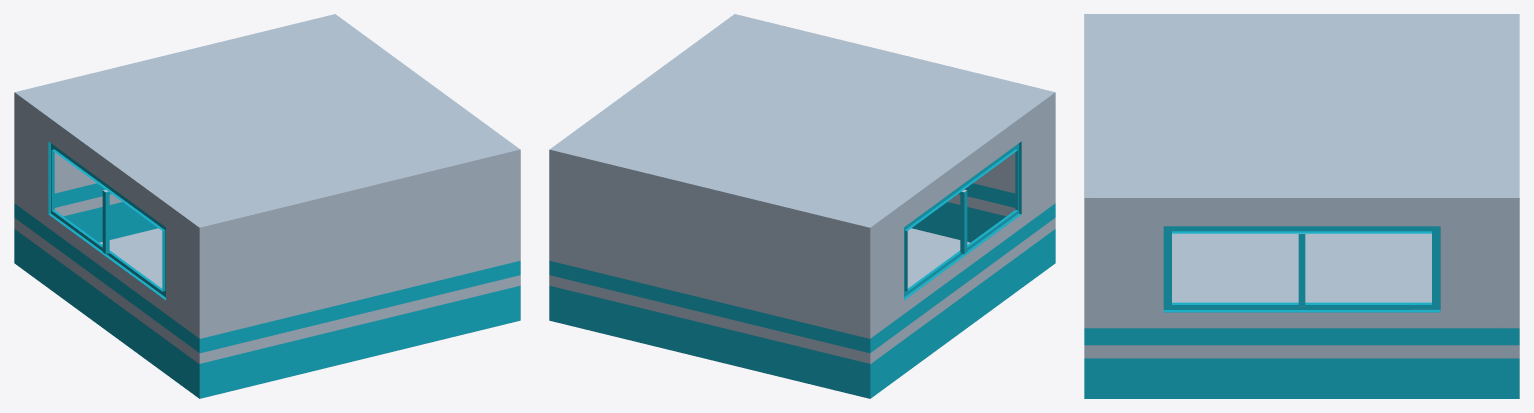
File: Login Room.fbx
3 renders of one model, left to right at view 1: azimuth 30°, elevation 25°; view 2: azimuth 150°, elevation 25°; view 3: azimuth 270°, elevation 25°, orthographic. The views are drawn at different scales.
Visible parts, largest first — view 1: Inner Cube; view 2: Inner Cube; view 3: Inner Cube.
Part boxes in pixels (x1=…): Inner Cube: x1=14, y1=14, x2=520, y2=398; Inner Cube: x1=549, y1=14, x2=1055, y2=398; Inner Cube: x1=1084, y1=14, x2=1519, y2=398.
Size of what is drawn, in the model's own units: 18.59 by 9.38 by 18.4.
1 material, 1 textured.
